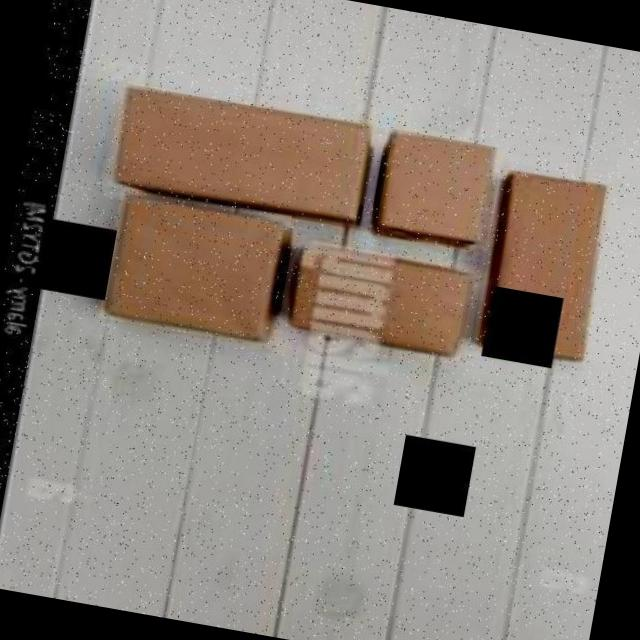box: (98, 72, 384, 230), (468, 160, 621, 370), (98, 185, 292, 348), (276, 228, 480, 362), (368, 124, 506, 250)
